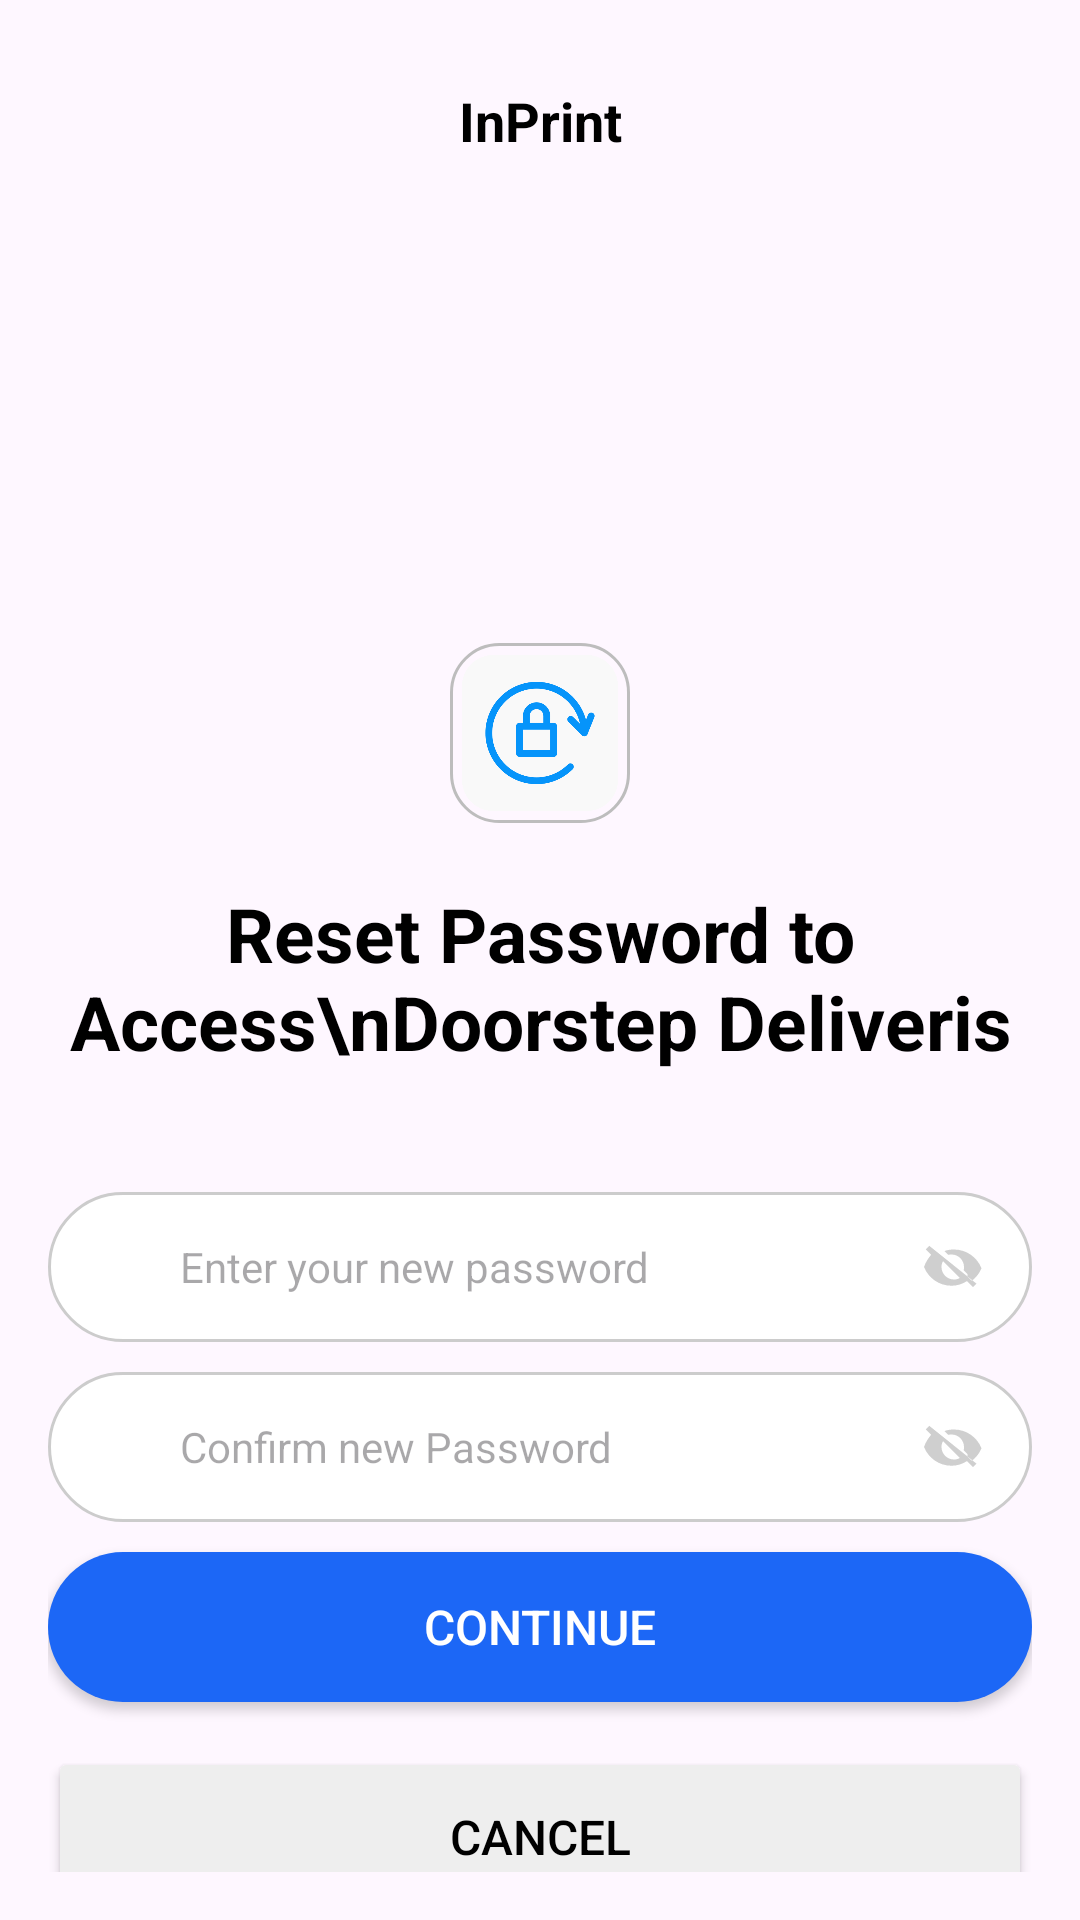

Where icons sit on this 1080×1920 app screen, as {"x1": x1, "y1": y1, "x2": x2, "y2": y2}:
eye off: {"x1": 924, "y1": 1246, "x2": 981, "y2": 1287}, {"x1": 924, "y1": 1426, "x2": 981, "y2": 1467}
